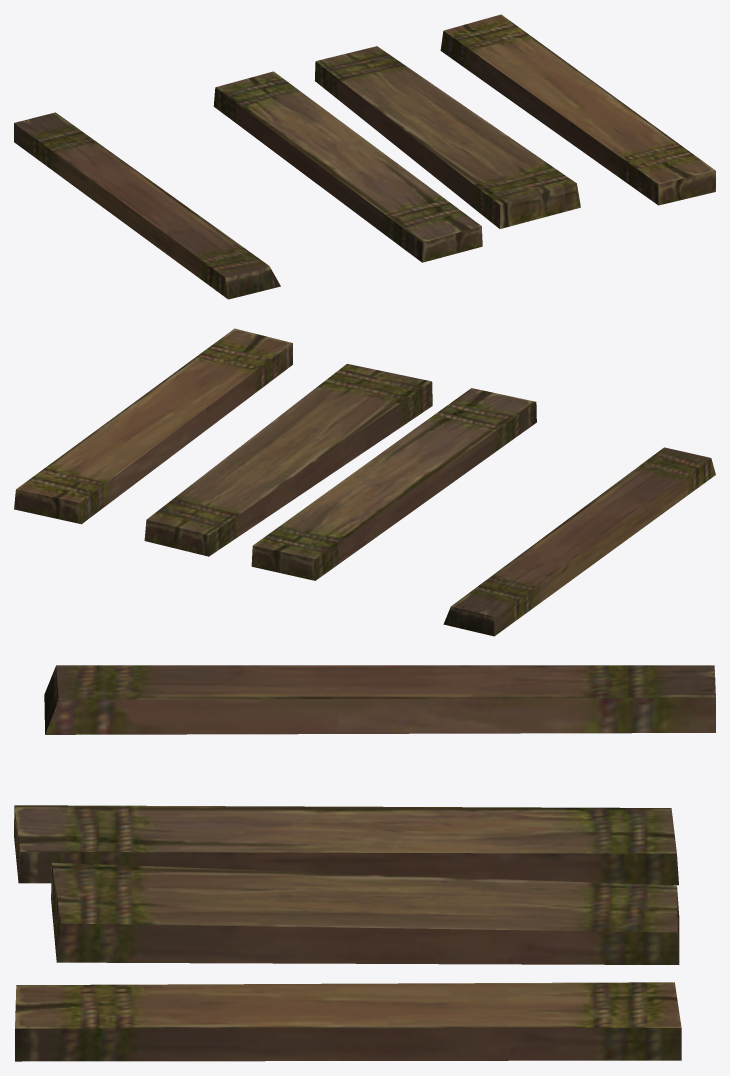
File: shilianzhidi04_mutou01.FBX
The picture shows the model from 3 angles, top to bottom: view 1: azimuth 30°, elevation 25°; view 2: azimuth 150°, elevation 25°; view 3: azimuth 270°, elevation 25°; orthographic projection. The views are drawn at different scales.
Visible parts, largest first — view 1: shilianzhidi04_mutou01_002, shilianzhidi04_mutou01_000, shilianzhidi04_mutou01_001, shilianzhidi04_mutou01_003; view 2: shilianzhidi04_mutou01_002, shilianzhidi04_mutou01_001, shilianzhidi04_mutou01_000, shilianzhidi04_mutou01_003; view 3: shilianzhidi04_mutou01_002, shilianzhidi04_mutou01_000, shilianzhidi04_mutou01_003, shilianzhidi04_mutou01_001.
Part boxes in pixels (x1=…): shilianzhidi04_mutou01_002: x1=315, y1=46, x2=580, y2=228; shilianzhidi04_mutou01_000: x1=440, y1=14, x2=715, y2=205; shilianzhidi04_mutou01_001: x1=213, y1=71, x2=482, y2=262; shilianzhidi04_mutou01_003: x1=14, y1=112, x2=280, y2=299; shilianzhidi04_mutou01_002: x1=144, y1=364, x2=432, y2=556; shilianzhidi04_mutou01_001: x1=251, y1=388, x2=536, y2=580; shilianzhidi04_mutou01_000: x1=14, y1=328, x2=292, y2=524; shilianzhidi04_mutou01_003: x1=443, y1=447, x2=715, y2=636; shilianzhidi04_mutou01_002: x1=51, y1=862, x2=679, y2=964; shilianzhidi04_mutou01_000: x1=15, y1=982, x2=681, y2=1061; shilianzhidi04_mutou01_003: x1=44, y1=665, x2=715, y2=734; shilianzhidi04_mutou01_001: x1=14, y1=805, x2=678, y2=885.
Size of the model in its own units: 445 by 363 by 24.83.
Materials: 1 (1 with a texture image).
